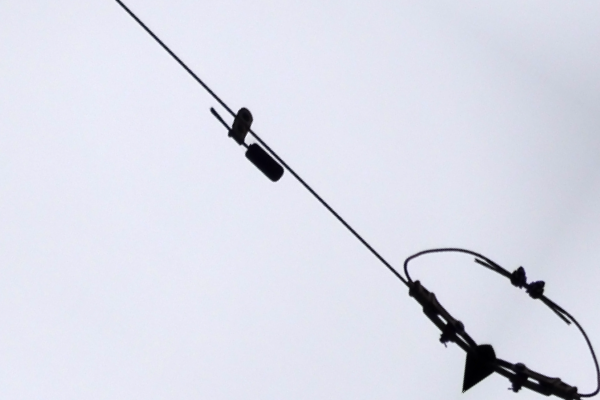damper_defect: (207, 101, 285, 184)
